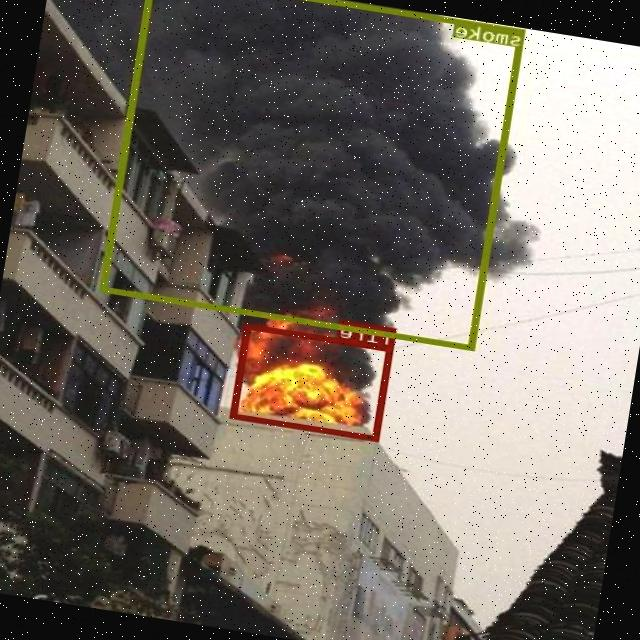fire: (232, 323, 395, 440)
smoke: (101, 0, 526, 349)
